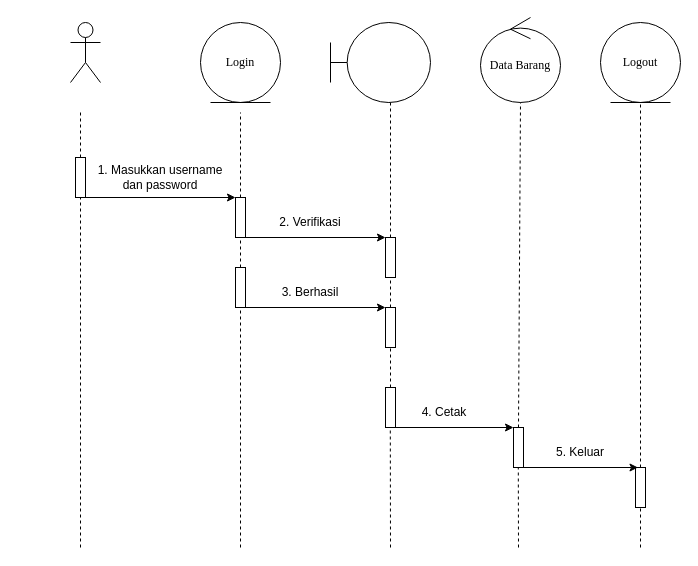
Image size: 698x566. Some labels were removed from this diagram. The shapes that lost their labels are listed below. From the top down, each one's centre as x and y in pixels, then its label:
point 85,52: Pemilik dan Staff Gudang
point 380,62: Menu
